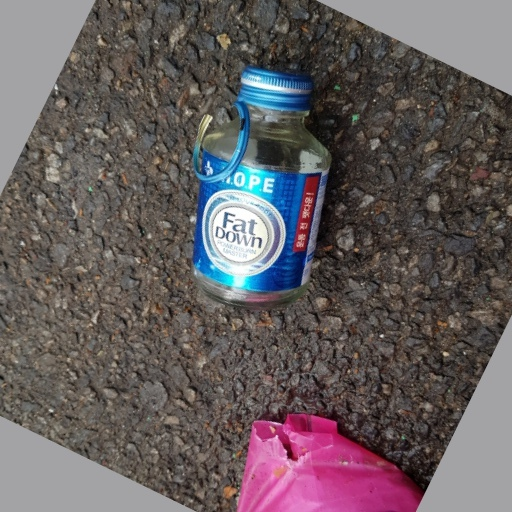Glass_4: (183, 71, 331, 310)
